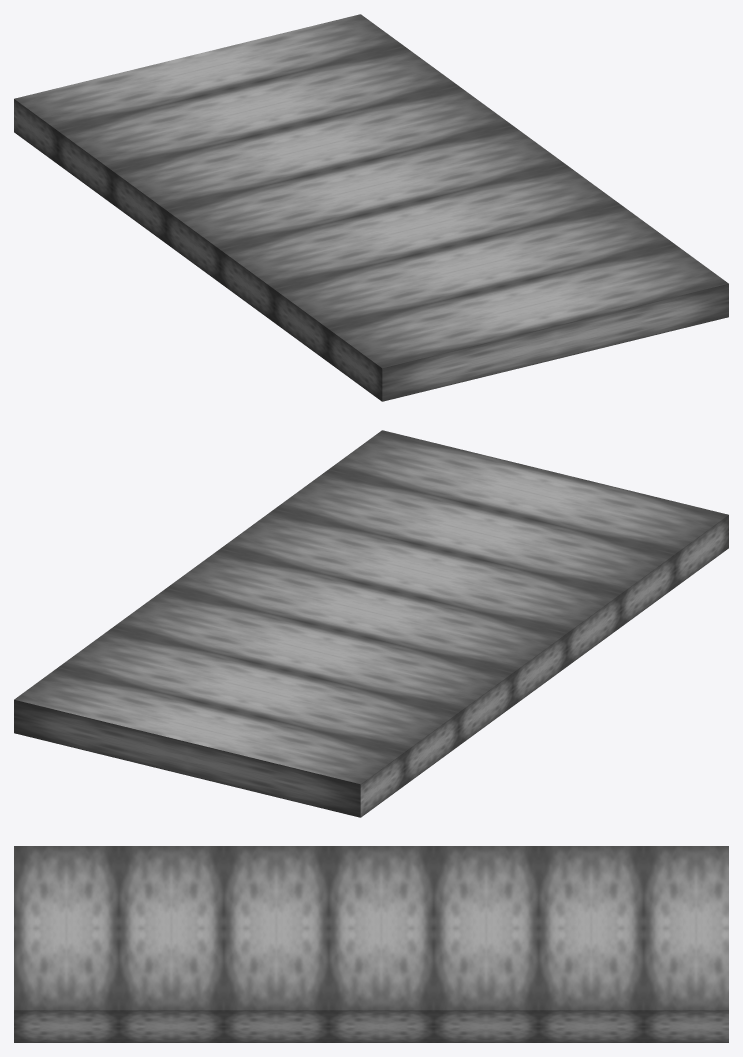
The model's file is DrawBridge_Platform.glb.
3 views of the same model, one above another, from view 1: azimuth 30°, elevation 25°; view 2: azimuth 150°, elevation 25°; view 3: azimuth 270°, elevation 25° (orthographic). The views are drawn at different scales.
Visible parts, largest first — view 1: Cube.001; view 2: Cube.001; view 3: Cube.001.
Part boxes in pixels (x1=…): Cube.001: x1=14, y1=14, x2=728, y2=401; Cube.001: x1=14, y1=430, x2=728, y2=817; Cube.001: x1=14, y1=846, x2=728, y2=1042.
Size of the model in its own units: 2 by 0.1847 by 3.68.
1 material, 1 textured.
